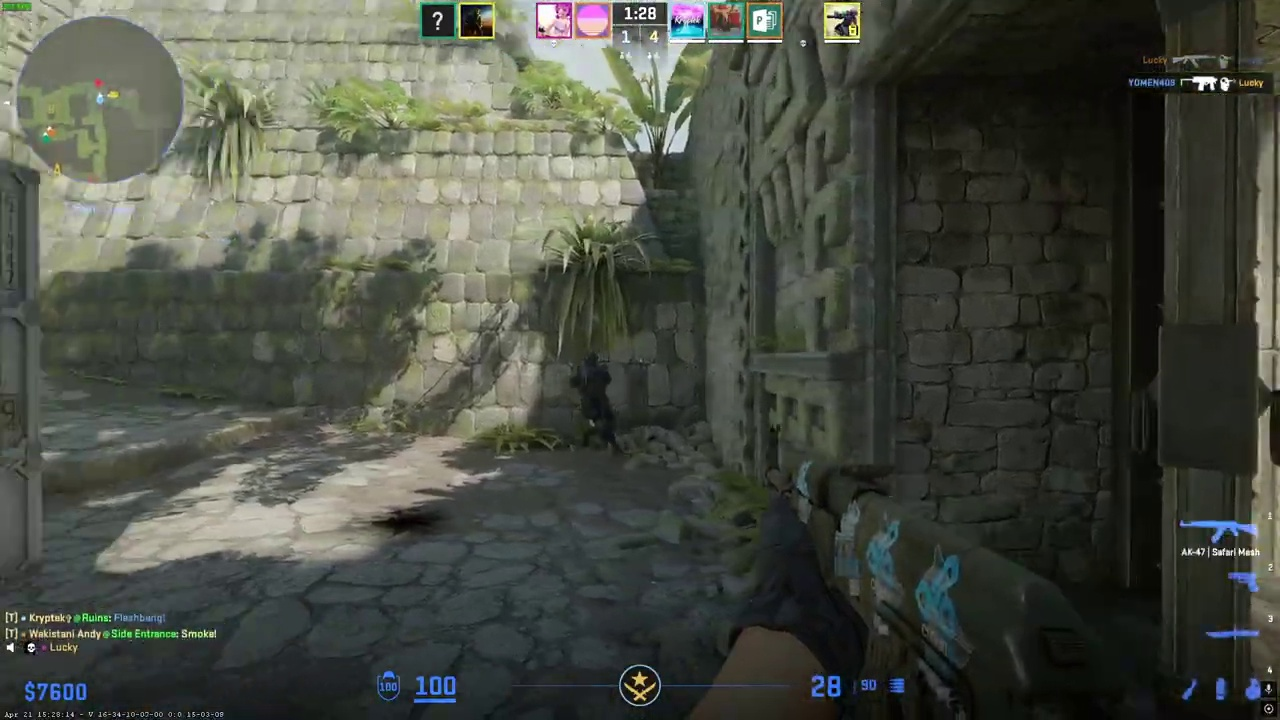CT: (574, 351, 620, 455)
